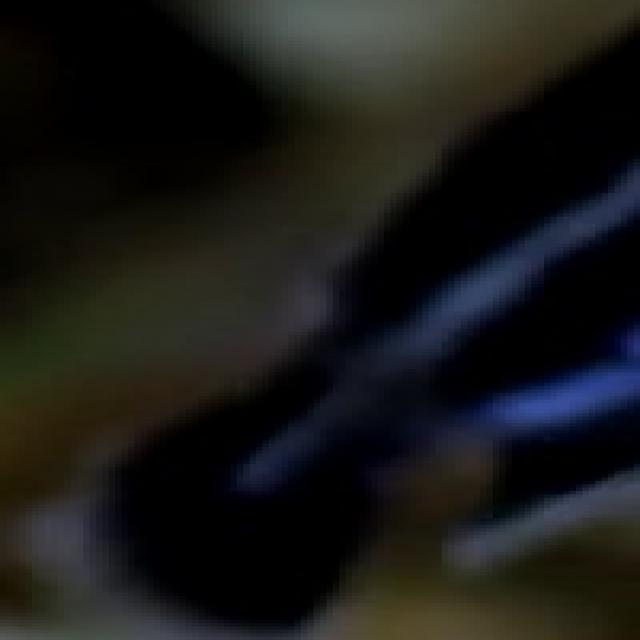fish: (0, 0, 634, 637)
